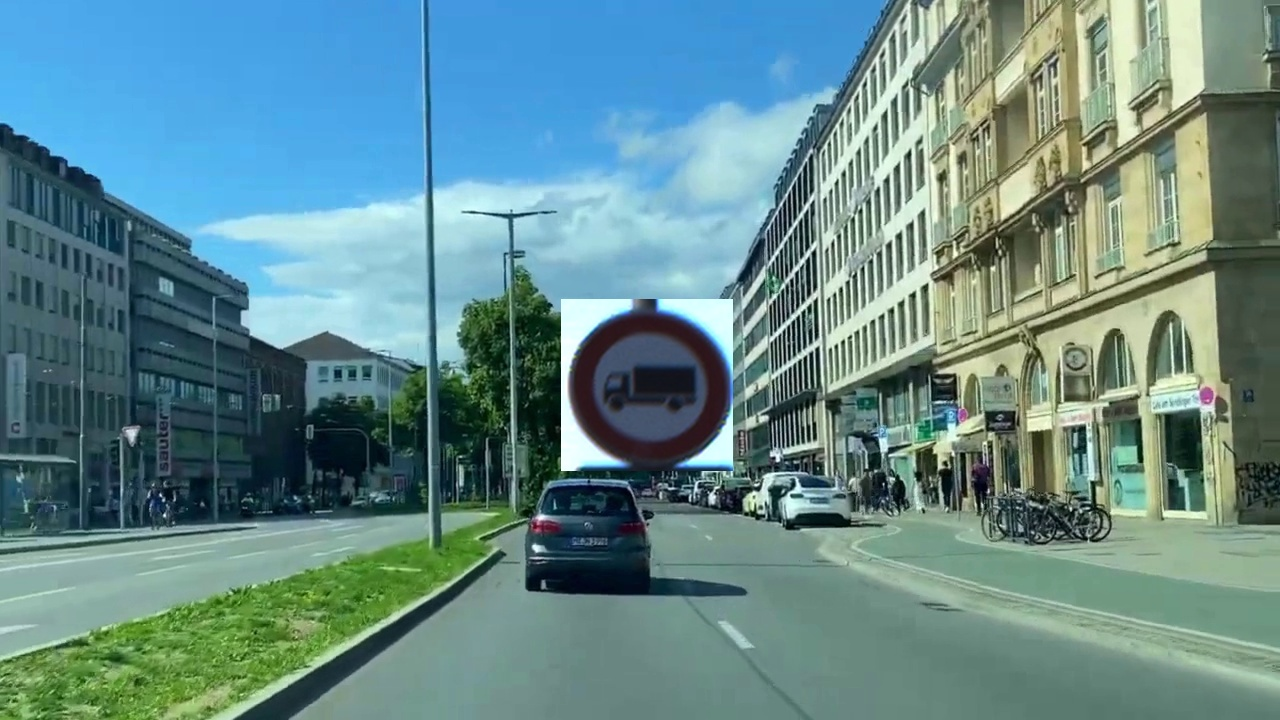Veh >3.5t prohib: (561, 299, 733, 471)
